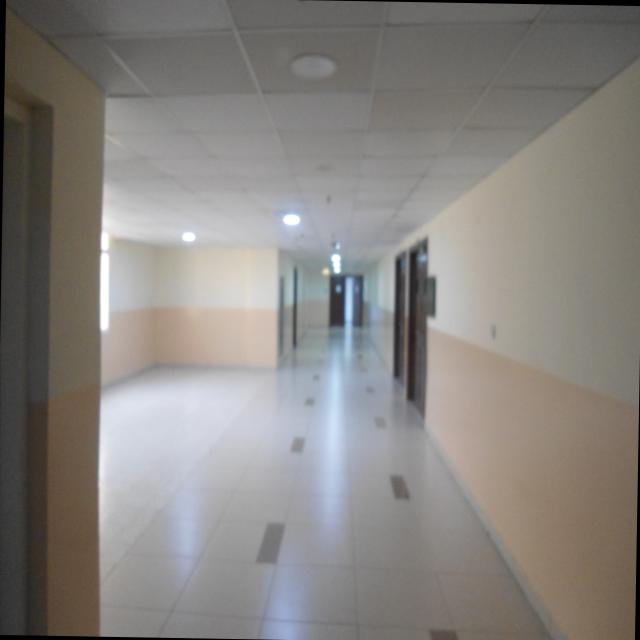door: (402, 242, 426, 408), (388, 242, 408, 386), (326, 272, 344, 328)
path: (99, 326, 553, 640)
pillar: (26, 75, 109, 634)
wall: (424, 58, 640, 640), (129, 234, 277, 370)
